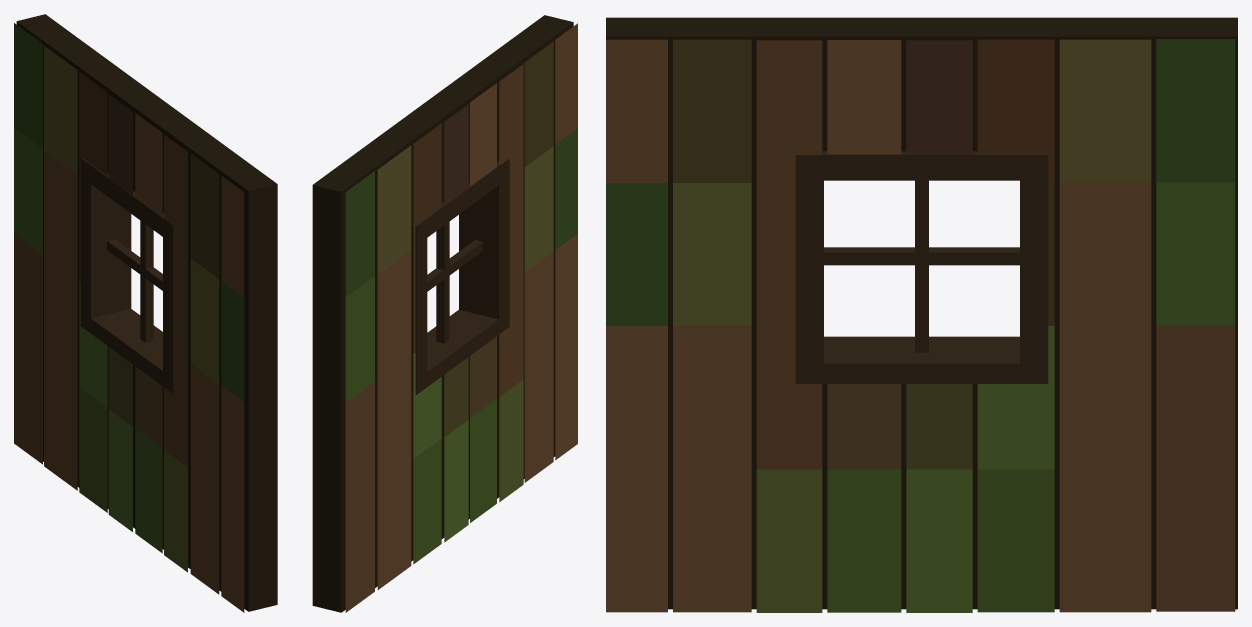
File: wall-mossy-window.glb
3 views of the same model, side by side, from view 1: azimuth 30°, elevation 25°; view 2: azimuth 150°, elevation 25°; view 3: azimuth 270°, elevation 25° (orthographic). The views are drawn at different scales.
Visible parts, largest first — view 1: wall-mossy-window; view 2: wall-mossy-window; view 3: wall-mossy-window.
Boxes of the visible parts, box(x1,y1,x2,y2) form: wall-mossy-window: box(14, 14, 277, 612); wall-mossy-window: box(312, 15, 577, 612); wall-mossy-window: box(606, 17, 1237, 612).
Bounding box in the file's own units: 0.1 × 1 × 1.
